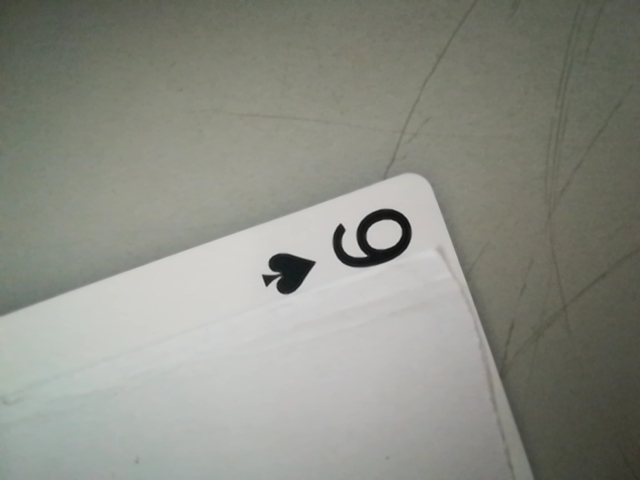ht 9: (251, 194, 439, 296)
